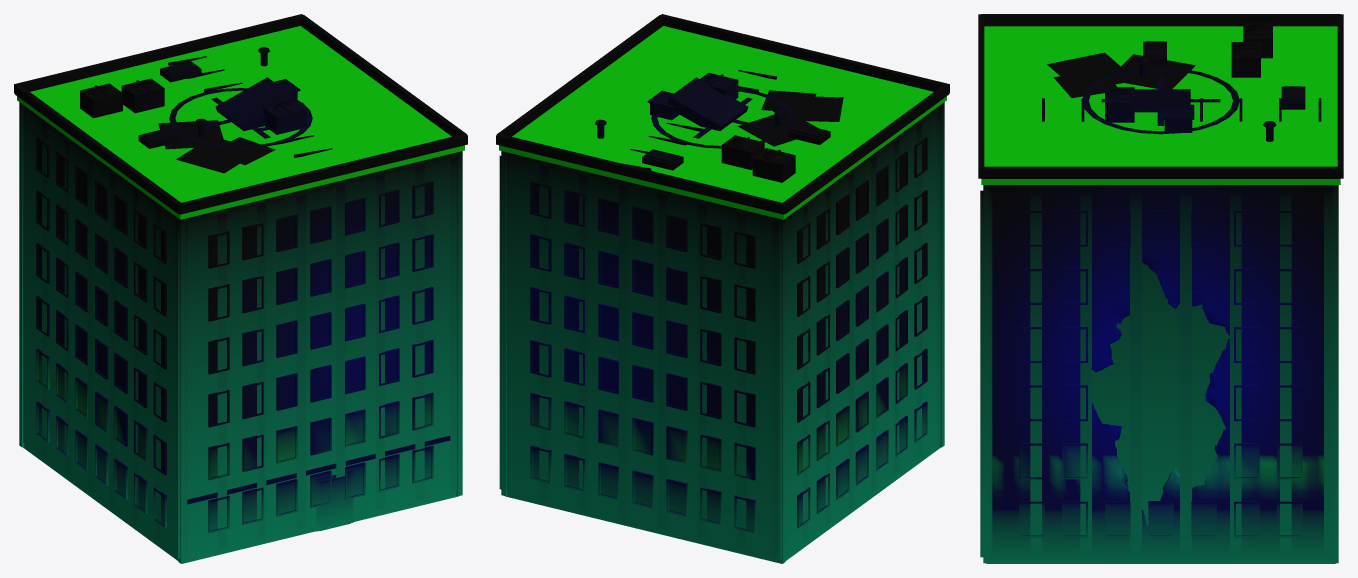
Rendered from city6storyb_damaged.glb.
3 renders of one model, left to right at view 1: azimuth 30°, elevation 25°; view 2: azimuth 150°, elevation 25°; view 3: azimuth 270°, elevation 25°, orthographic. The views are drawn at different scales.
Visible parts, largest first — view 1: lod0; view 2: lod0; view 3: lod0.
Boxes of the visible parts, x1,y1,x2,y2 form: lod0: (14, 14, 467, 563); lod0: (496, 14, 949, 563); lod0: (978, 14, 1343, 563).
Size of what is drawn, in the model's own units: 18.6 by 23.05 by 18.5.
